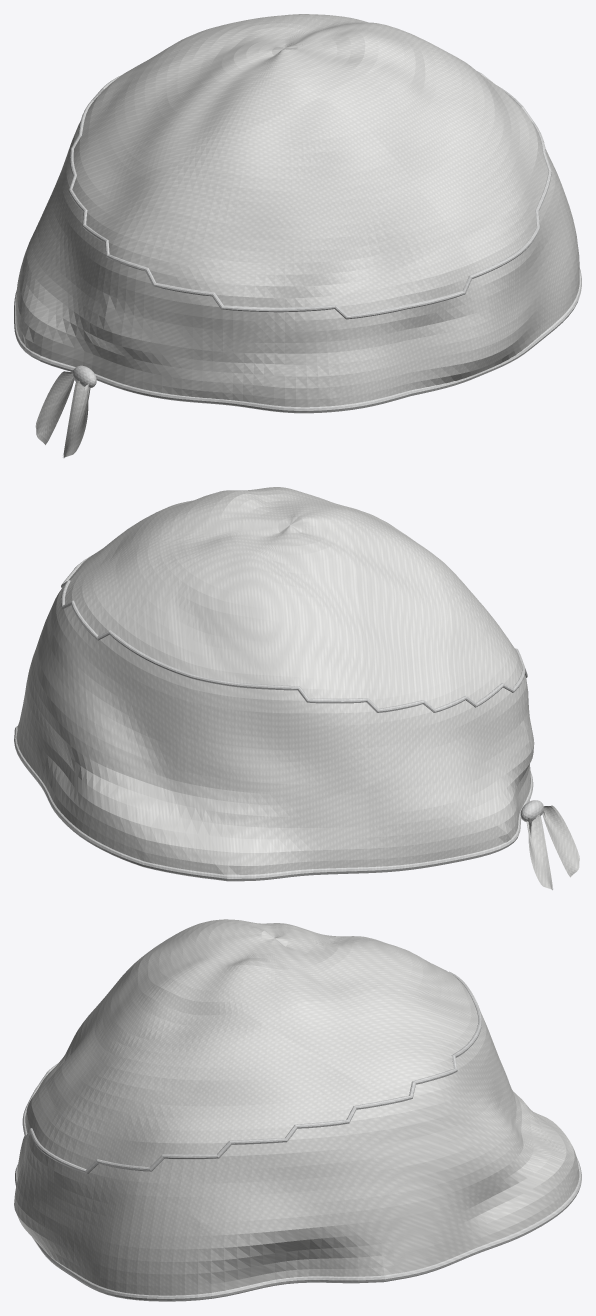
File: side_ff_fisherman_headcloth.glb
3 views of the same model, one above another, from view 1: azimuth 30°, elevation 25°; view 2: azimuth 150°, elevation 25°; view 3: azimuth 270°, elevation 25° (orthographic). The views are drawn at different scales.
Parts seen in each view (by area): view 1: wash_dyed_linen, sewn_fold; view 2: wash_dyed_linen, sewn_fold; view 3: wash_dyed_linen, sewn_fold.
Part boxes in pixels (x1,y1,x2,y2): wash_dyed_linen: [16, 14, 579, 457]; sewn_fold: [14, 71, 581, 413]; wash_dyed_linen: [16, 487, 579, 890]; sewn_fold: [14, 555, 543, 881]; wash_dyed_linen: [14, 919, 579, 1295]; sewn_fold: [15, 971, 581, 1301].
Bounding box in the file's own units: 17.18 × 10.66 × 16.44.
Materials: 3 (3 with a texture image).
